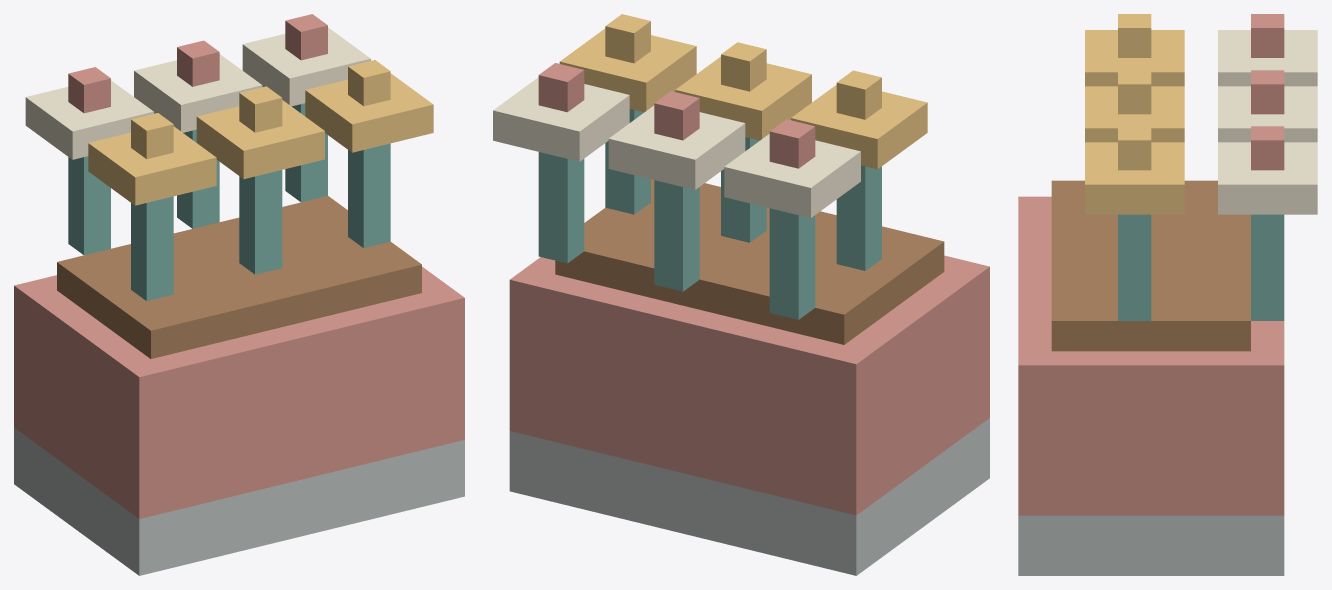
Rendered from pocket-borough-flower-planter__285.glb.
3 renders of one model, left to right at view 1: azimuth 30°, elevation 25°; view 2: azimuth 150°, elevation 25°; view 3: azimuth 270°, elevation 25°, orthographic. The views are drawn at different scales.
Visible parts, largest first — view 1: pocket-borough-flower-planter; view 2: pocket-borough-flower-planter; view 3: pocket-borough-flower-planter.
Boxes of the visible parts, x1=… form: pocket-borough-flower-planter: x1=14, y1=14, x2=464, y2=575; pocket-borough-flower-planter: x1=493, y1=14, x2=989, y2=575; pocket-borough-flower-planter: x1=1018, y1=14, x2=1317, y2=575.
Bounding box in the file's own units: 1.5 × 1.75 × 1.12.
